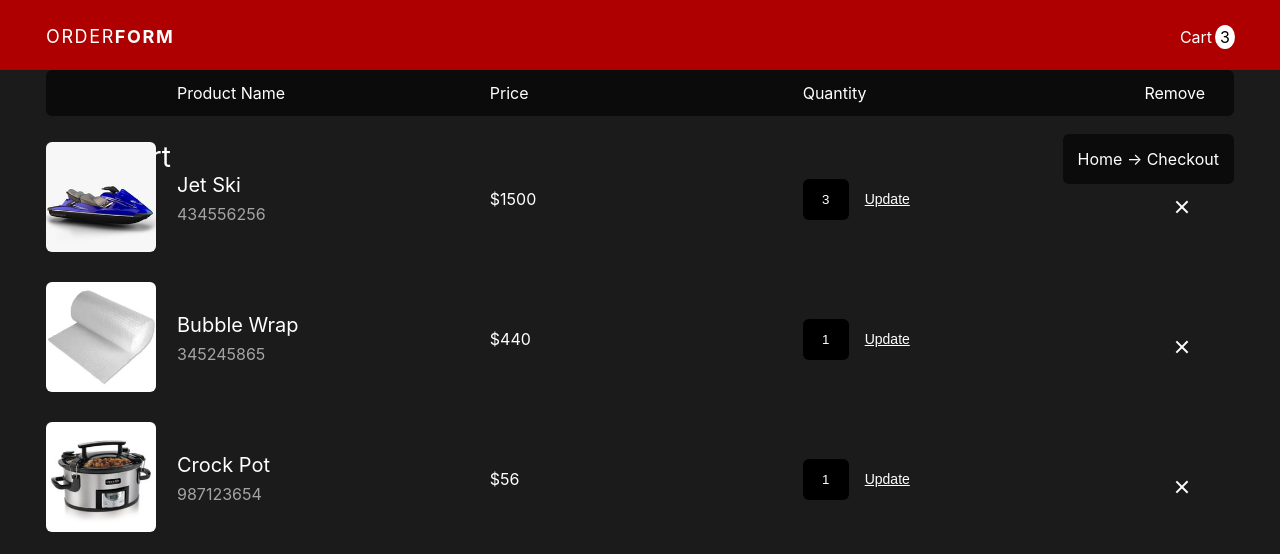
Scenario: App › actions › should update the total when an item gets removed
Click the button with test id "remove-item-0" at coordinates (1180, 205), box [1174, 204, 1186, 206]
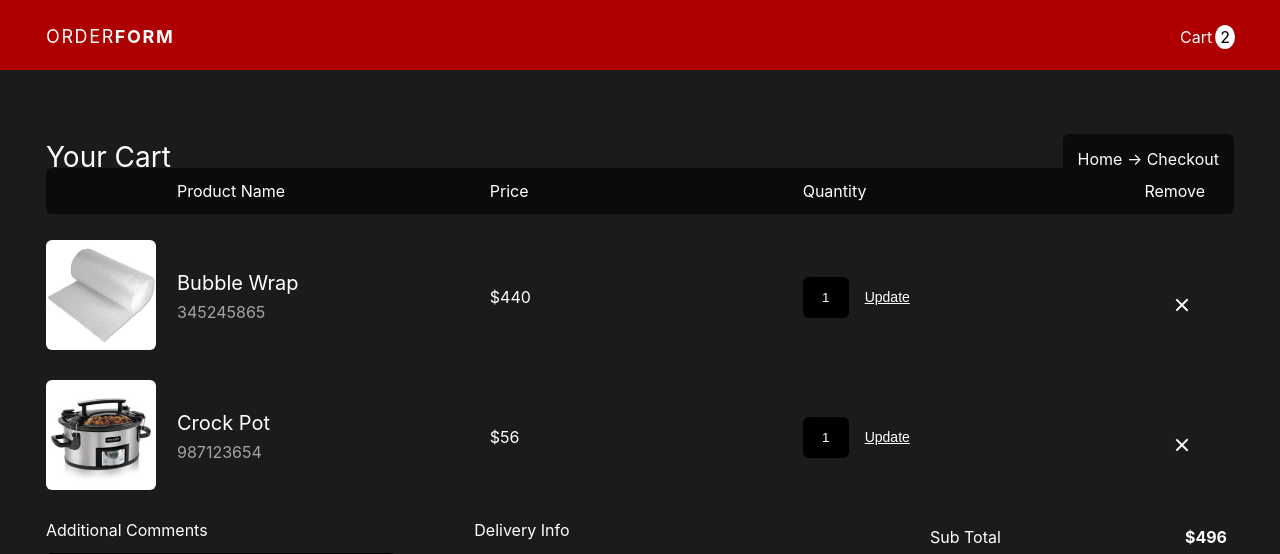
Result: the text with test id "sub-total" reads "$496" at [1185, 527, 1227, 547]
